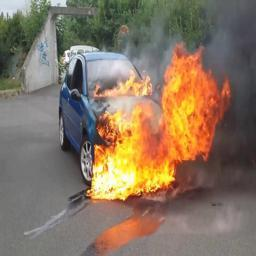fire: (88, 43, 232, 201), (92, 68, 154, 99)
